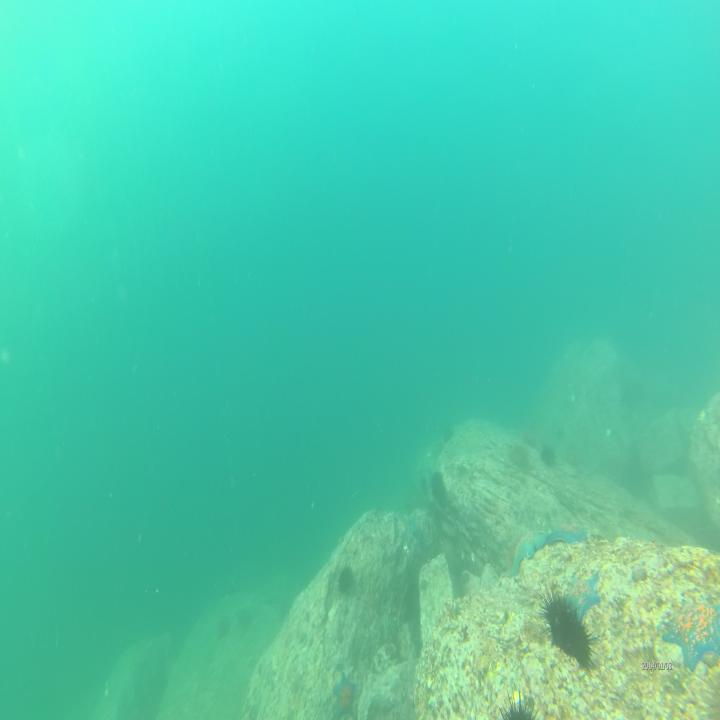echinus: (543, 590, 599, 680), (495, 685, 536, 720), (335, 562, 357, 603), (509, 437, 529, 476), (538, 440, 557, 475), (427, 468, 446, 502), (214, 610, 234, 641), (437, 419, 457, 445)
starfish: (661, 596, 720, 673), (510, 530, 550, 583), (330, 669, 358, 720), (550, 519, 590, 549)
